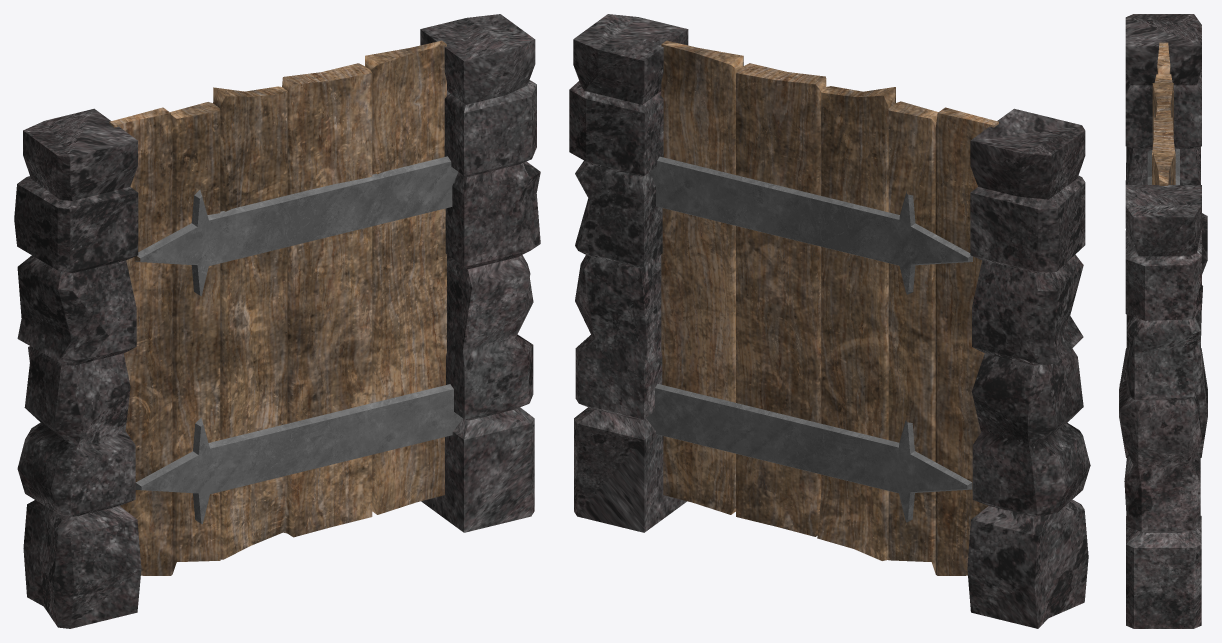
The model's file is SmallDoor.fbx.
3 views of the same model, side by side, from view 1: azimuth 30°, elevation 25°; view 2: azimuth 150°, elevation 25°; view 3: azimuth 270°, elevation 25° (orthographic). The views are drawn at different scales.
Visible parts, largest first — view 1: SmallDoor; view 2: SmallDoor; view 3: SmallDoor.
Boxes of the visible parts, x1,y1,x2,y2 form: SmallDoor: [14, 14, 540, 628]; SmallDoor: [569, 14, 1090, 628]; SmallDoor: [1119, 14, 1207, 628].
Bounding box in the file's own units: 1.98 × 1.83 × 0.3521.
Materials: 1 (1 with a texture image).
